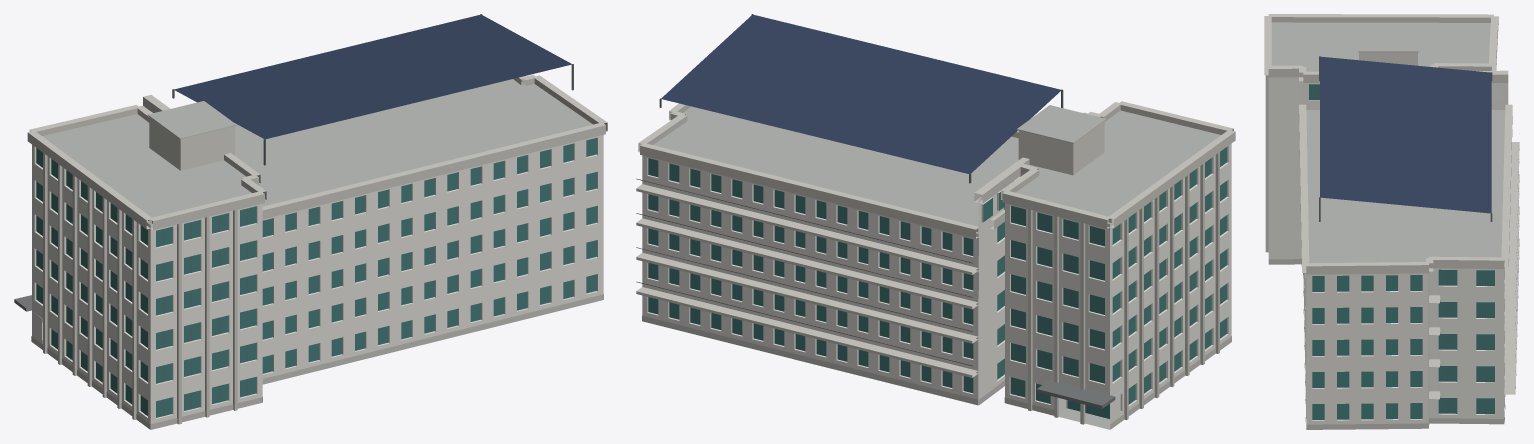
3 views of the same model, side by side, from view 1: azimuth 30°, elevation 25°; view 2: azimuth 150°, elevation 25°; view 3: azimuth 270°, elevation 25° (orthographic). The views are drawn at different scales.
Parts seen in each view (by area): view 1: socialSciences__wall, socialSciences__roof, socialSciences__glass, socialSciences__pv, socialSciences__trim, socialSciences__base, socialSciences__wall2, socialSciences__frame; view 2: socialSciences__wall, socialSciences__trim, socialSciences__pv, socialSciences__roof, socialSciences__glass, socialSciences__base, socialSciences__frame, socialSciences__wall2, socialSciences__canopy; view 3: socialSciences__wall, socialSciences__pv, socialSciences__roof, socialSciences__trim, socialSciences__glass, socialSciences__base, socialSciences__wall2, socialSciences__frame.
Part boxes in pixels (bbox=[...]): socialSciences__wall: bbox=[32, 111, 603, 429]; socialSciences__roof: bbox=[42, 79, 592, 224]; socialSciences__glass: bbox=[36, 138, 596, 417]; socialSciences__pv: bbox=[174, 14, 571, 139]; socialSciences__trim: bbox=[27, 74, 607, 424]; socialSciences__base: bbox=[31, 294, 603, 429]; socialSciences__wall2: bbox=[149, 117, 234, 170]; socialSciences__frame: bbox=[40, 14, 573, 416]; socialSciences__wall: bbox=[642, 143, 1231, 429]; socialSciences__trim: bbox=[636, 101, 1235, 424]; socialSciences__pv: bbox=[661, 14, 1061, 174]; socialSciences__roof: bbox=[653, 105, 1220, 429]; socialSciences__glass: bbox=[648, 147, 1226, 419]; socialSciences__base: bbox=[642, 315, 1231, 429]; socialSciences__frame: bbox=[636, 14, 1222, 417]; socialSciences__wall2: bbox=[1018, 121, 1104, 175]; socialSciences__canopy: bbox=[1037, 380, 1115, 408]; socialSciences__wall: bbox=[1268, 67, 1508, 424]; socialSciences__pv: bbox=[1320, 56, 1491, 213]; socialSciences__roof: bbox=[1271, 22, 1505, 263]; socialSciences__trim: bbox=[1264, 14, 1519, 399]; socialSciences__glass: bbox=[1309, 84, 1494, 419]; socialSciences__base: bbox=[1268, 259, 1505, 429]; socialSciences__wall2: bbox=[1359, 52, 1417, 65]; socialSciences__frame: bbox=[1317, 56, 1519, 414].
Size of the model in its own units: 53.17 by 25.1 by 26.03.
